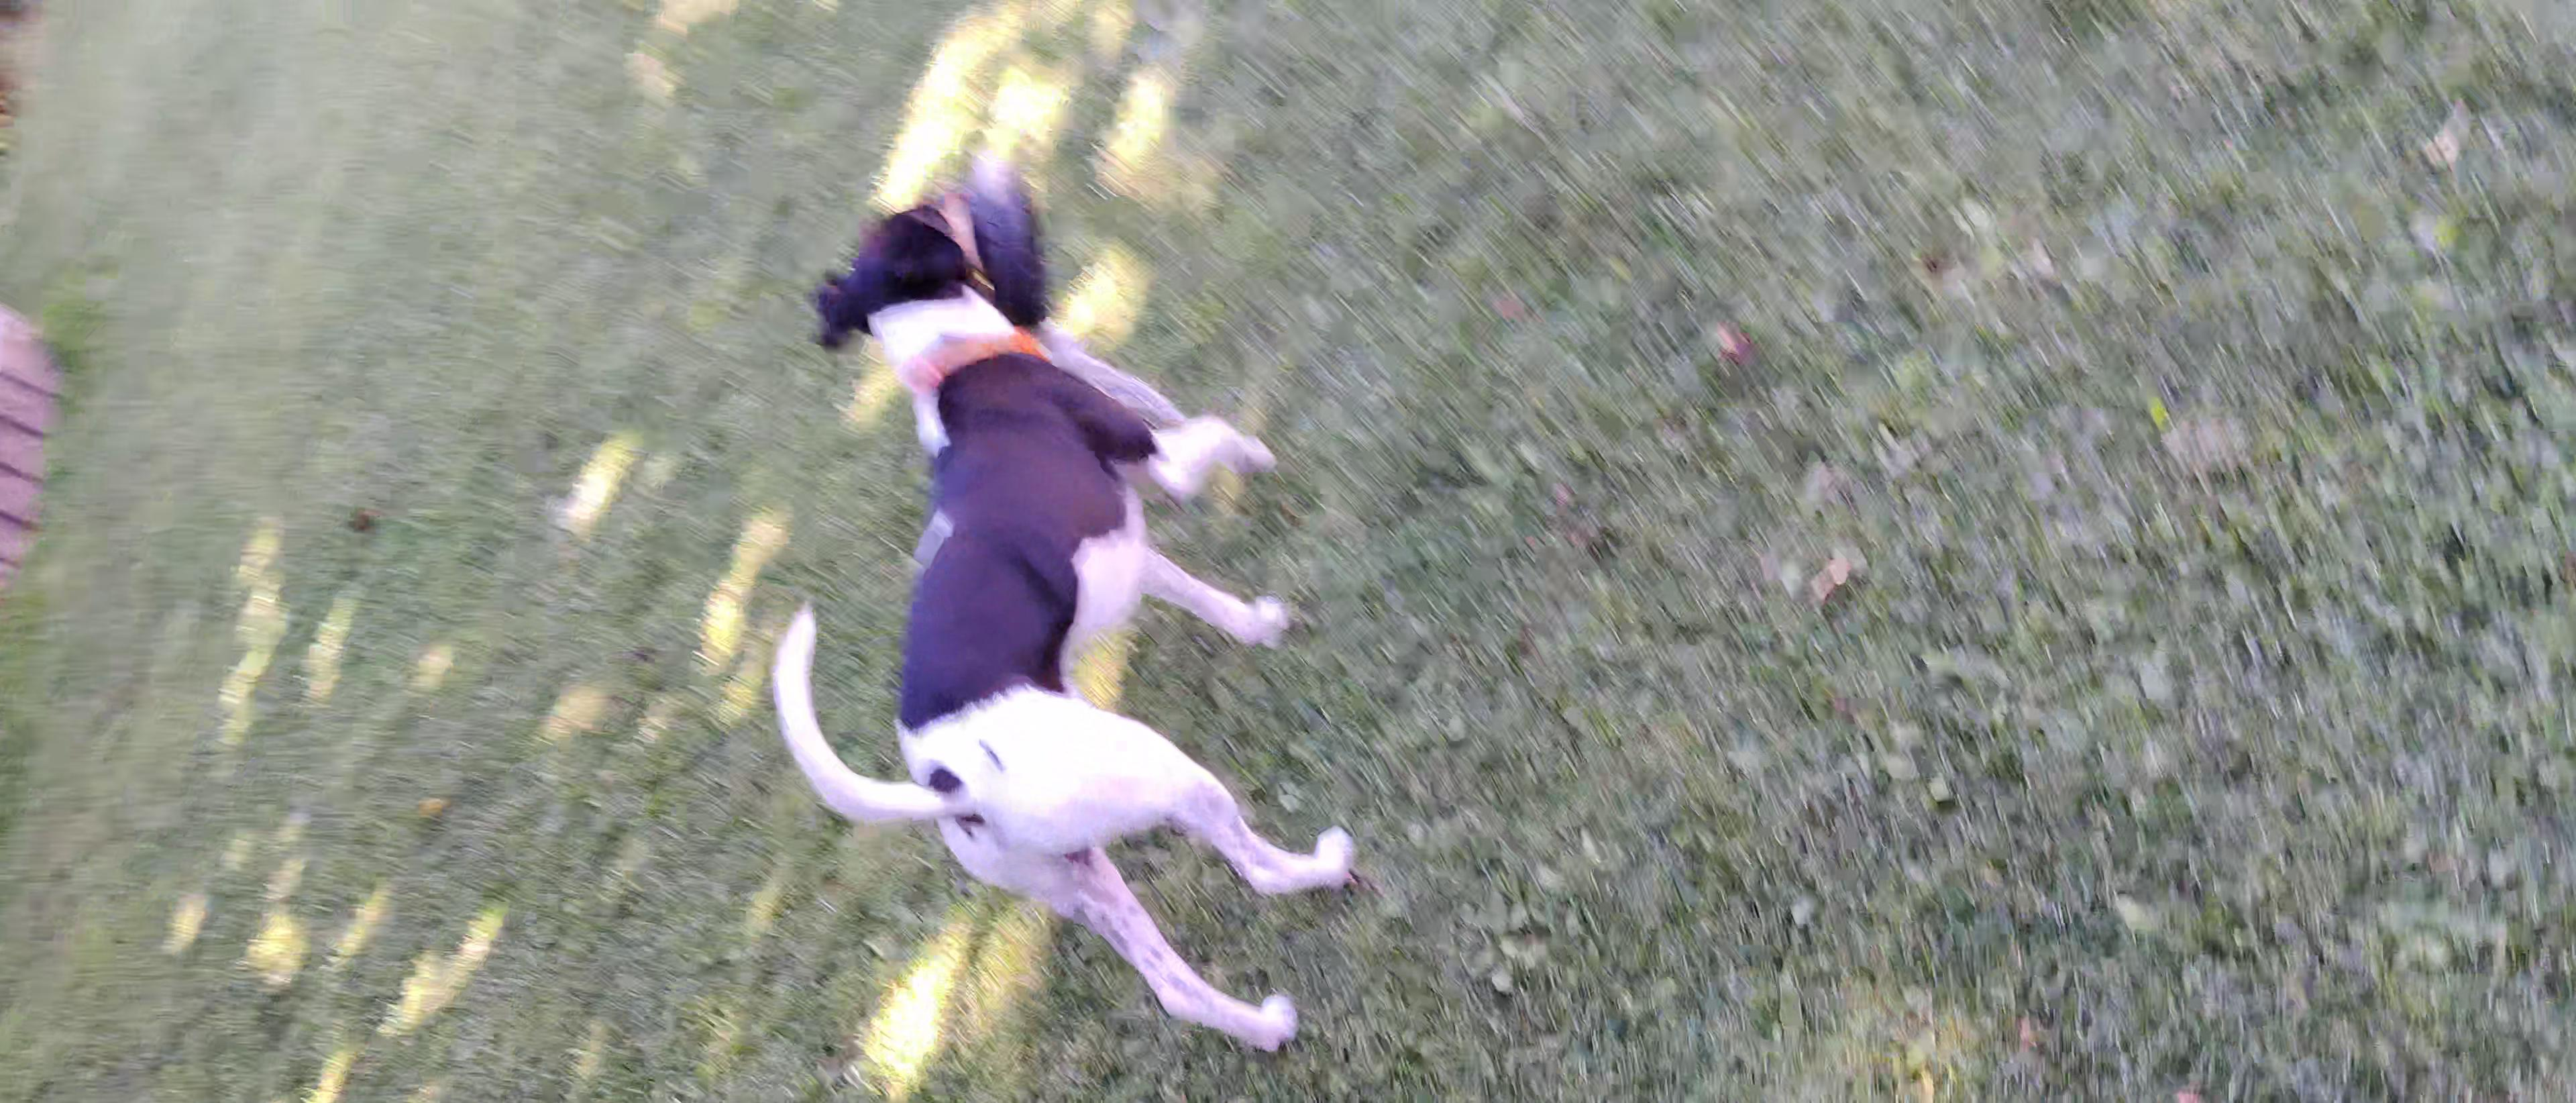Dog: (762, 173, 1365, 1054)
